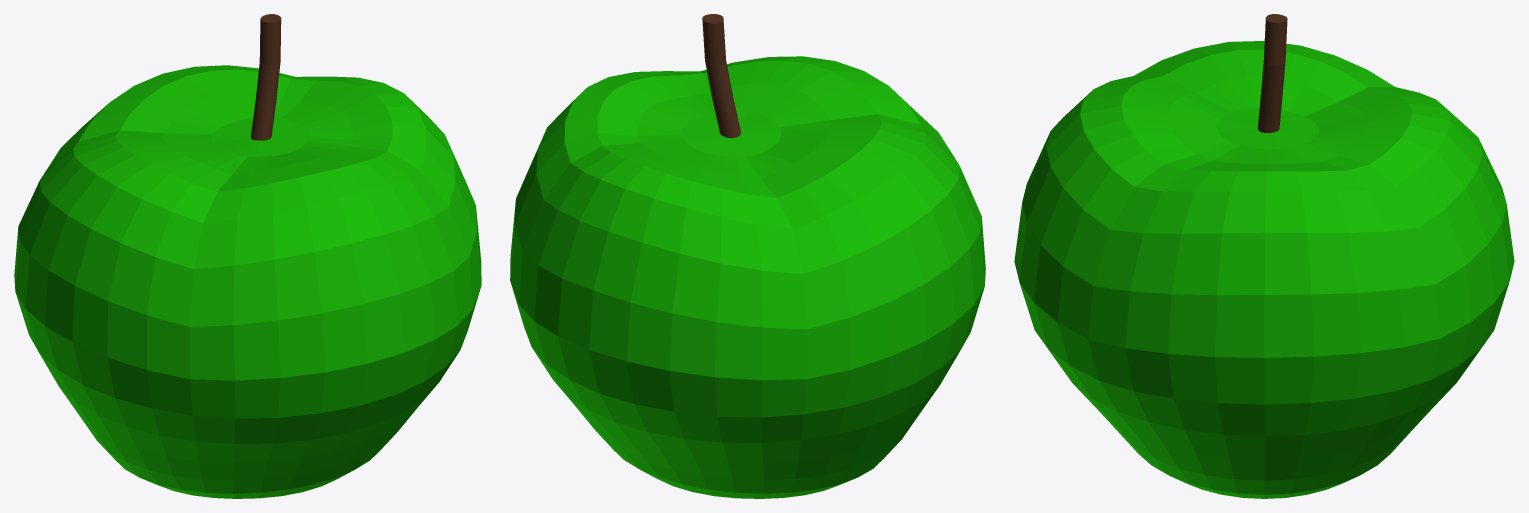
File: manzana-verde.fbx
The picture shows the model from 3 angles, left to right: view 1: azimuth 30°, elevation 25°; view 2: azimuth 150°, elevation 25°; view 3: azimuth 270°, elevation 25°; orthographic projection. The views are drawn at different scales.
Parts seen in each view (by area): view 1: Sphere, Sphere.001; view 2: Sphere, Sphere.001; view 3: Sphere, Sphere.001.
Part boxes in pixels (<box>): Sphere: <box>14,65,481,498</box>; Sphere.001: <box>251,14,281,140</box>; Sphere: <box>510,56,985,498</box>; Sphere.001: <box>702,14,740,138</box>; Sphere: <box>1014,41,1514,498</box>; Sphere.001: <box>1257,14,1287,133</box>.
Size of the model in its own units: 188 by 192 by 191.
